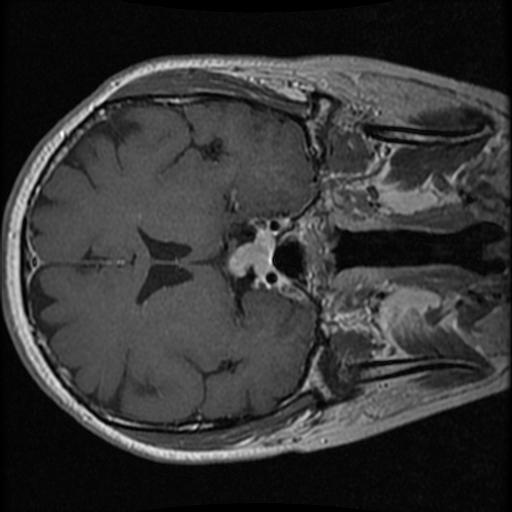pituitary tumour: (227, 230, 275, 278)
